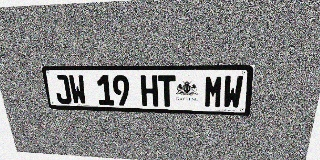1: (96, 75, 114, 105)
9: (112, 75, 131, 106)
H: (140, 75, 158, 107)
J: (53, 75, 72, 104)
M: (204, 75, 224, 108)
T: (158, 75, 175, 107)
W: (222, 75, 244, 109), (68, 75, 87, 105)
